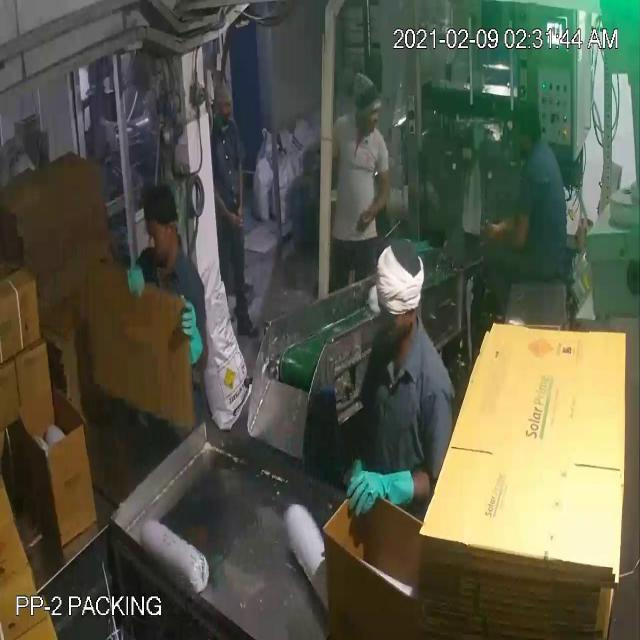Gloves: (36, 68, 511, 488)
